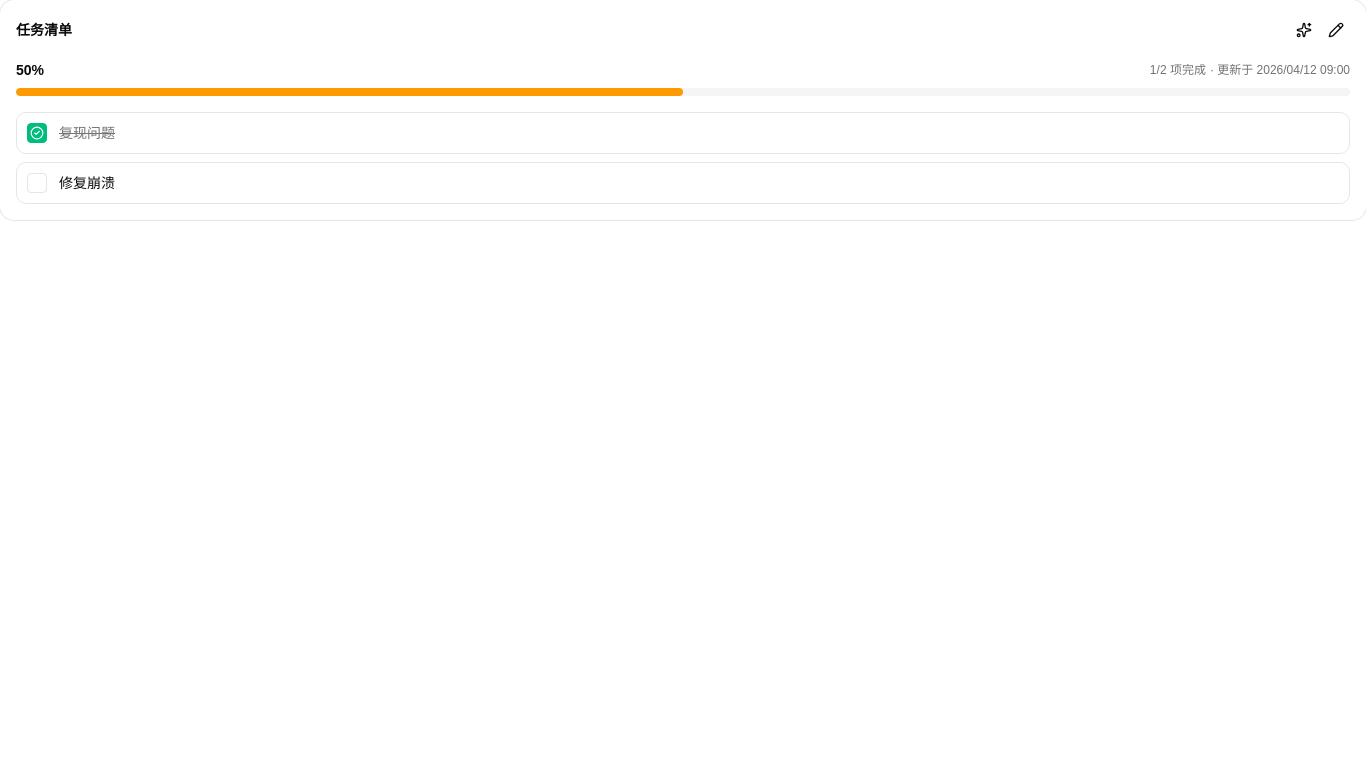
Scenario: IssueChecklistCard › shows the generic error state for non-404 failures
Click the button named "智能识别任务清单建议" at (1304, 30), box [1290,16,1318,44]
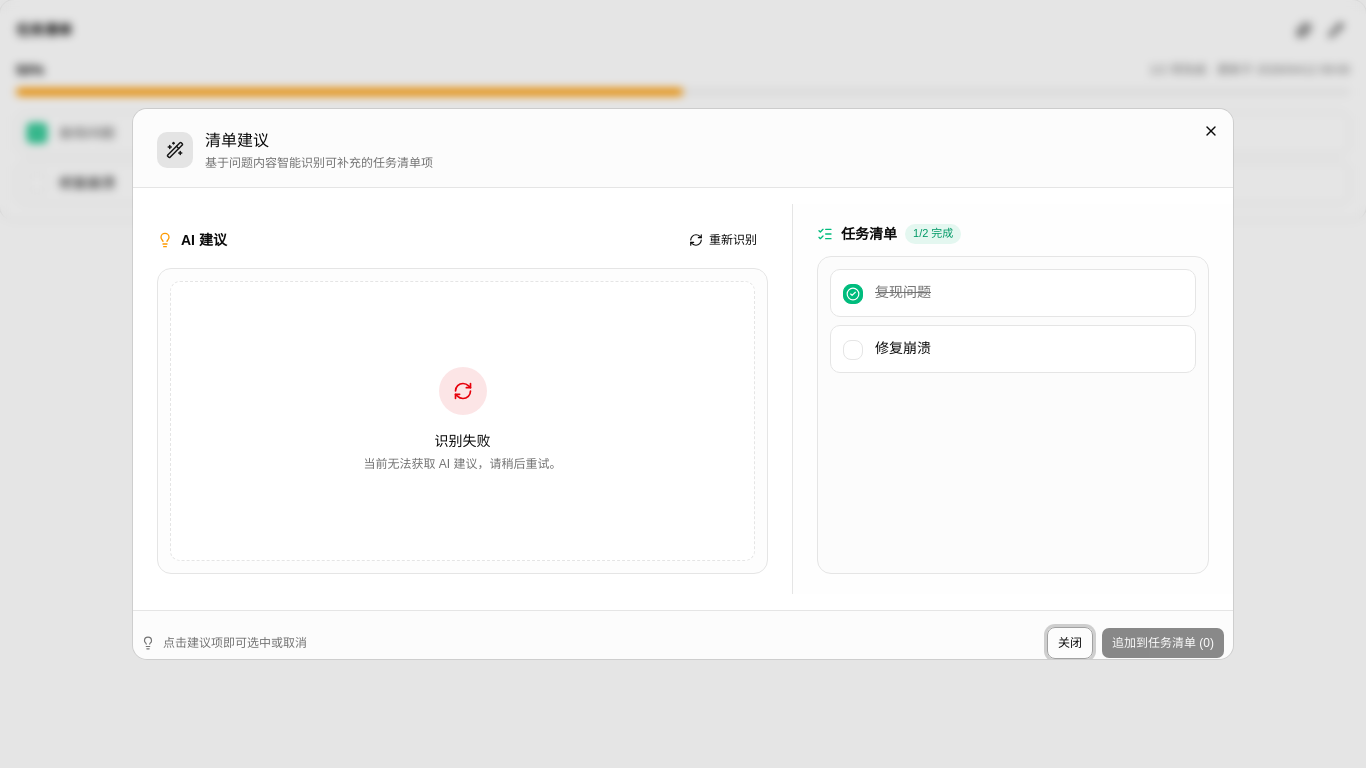
Expected: the text "识别失败" is shown, [434,431,490,451]
